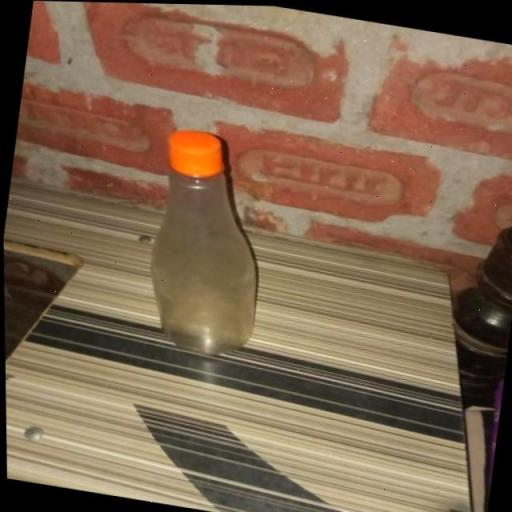plastic: (126, 121, 286, 366)
